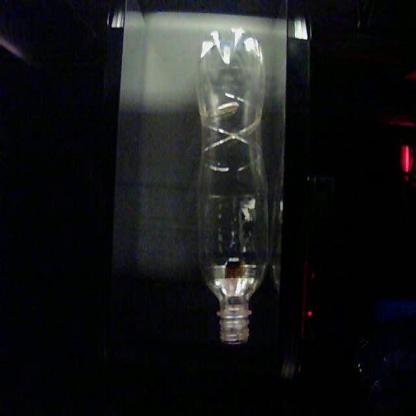Plastic Bottle: (197, 28, 269, 344)
